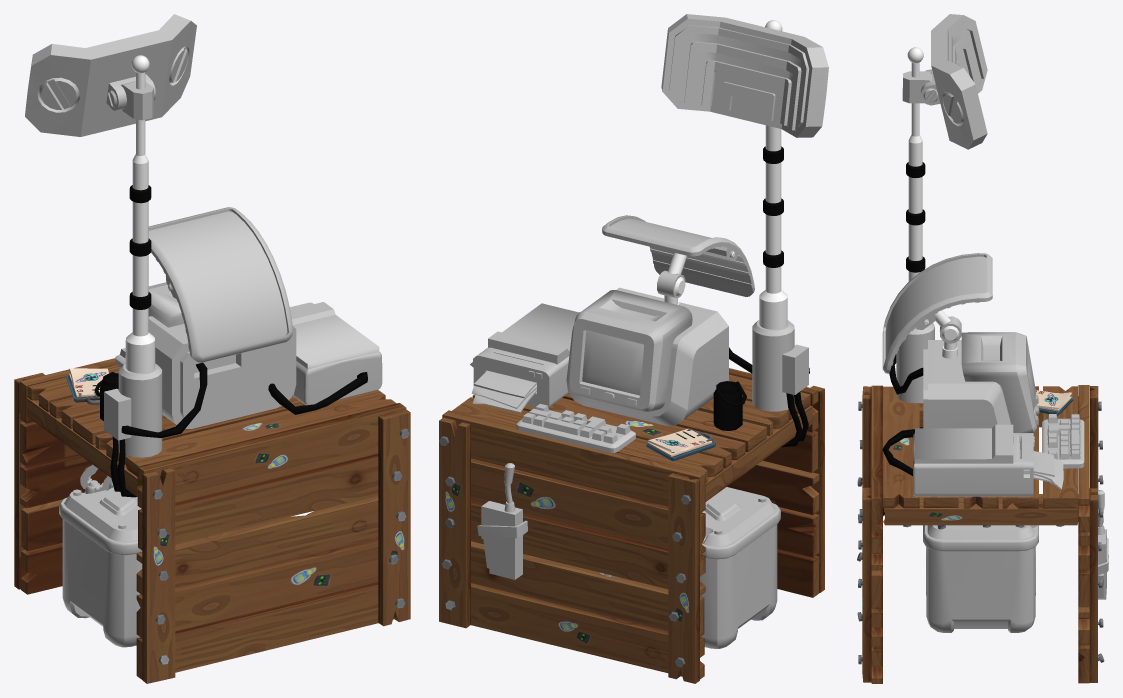
The model's file is antenna.fbx.
3 views of the same model, side by side, from view 1: azimuth 30°, elevation 25°; view 2: azimuth 150°, elevation 25°; view 3: azimuth 270°, elevation 25° (orthographic). The views are drawn at different scales.
Parts seen in each view (by area): view 1: workbench; view 2: workbench; view 3: workbench.
Boxes of the visible parts, x1=… form: workbench: x1=14, y1=14, x2=410, y2=683; workbench: x1=439, y1=14, x2=828, y2=683; workbench: x1=857, y1=14, x2=1108, y2=683.
Bounding box in the file's own units: 4.95 × 8.7 × 3.69.
